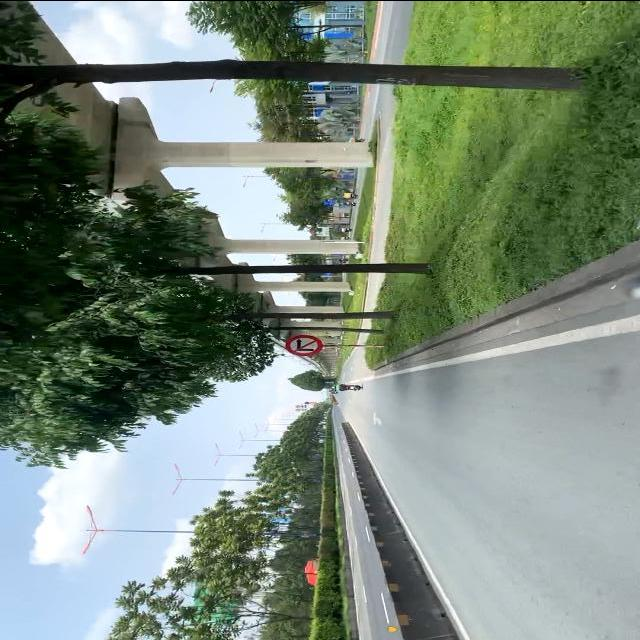P-123b: (284, 336, 322, 358)
